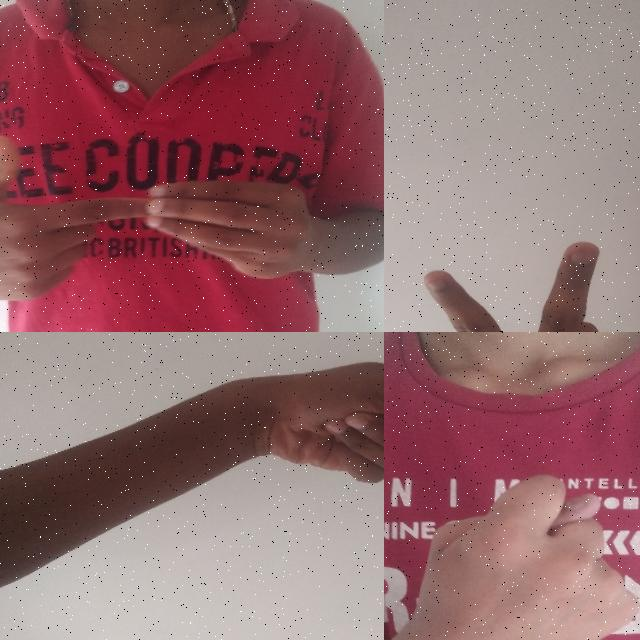Dulya: (384, 466, 640, 640), (227, 352, 384, 490)
Five Fathers: (0, 117, 323, 315)
Reversed Victory: (413, 226, 632, 332)
